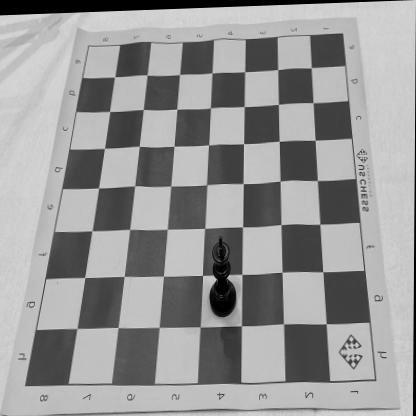black-king: (210, 234, 238, 316)
